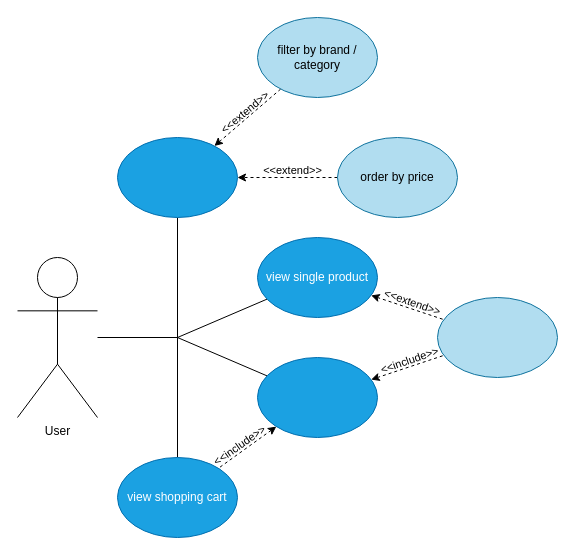
The diagram is 575 pixels wide and 555 high, and some of its shapes have lost their labels. Each missing label, with the centre of its shape:
"add / remove from shopping cart" belongs at pixel 497 337.
"authentication" belongs at pixel 317 397.
"view products" belongs at pixel 177 177.
